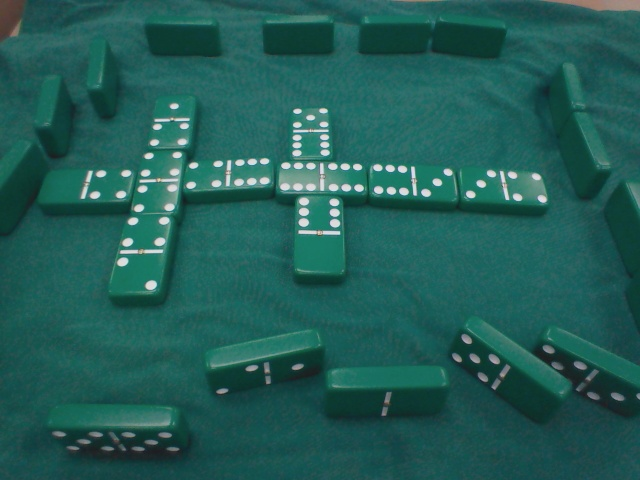B: (281, 195, 358, 287), (108, 208, 173, 306), (456, 164, 555, 219), (183, 151, 280, 206), (271, 153, 371, 206), (367, 158, 457, 215), (33, 163, 135, 210), (134, 91, 199, 155), (128, 149, 186, 217), (281, 102, 340, 163)
C: (2, 134, 49, 238), (29, 70, 79, 154), (82, 35, 123, 121)
D: (550, 112, 610, 201), (537, 62, 592, 138), (598, 175, 640, 272), (622, 266, 640, 319)
E: (434, 310, 568, 425), (185, 326, 330, 403), (531, 318, 640, 415), (41, 397, 183, 457), (320, 359, 452, 422)
F: (428, 13, 510, 61), (249, 16, 341, 58), (349, 13, 433, 59), (140, 18, 226, 61)
